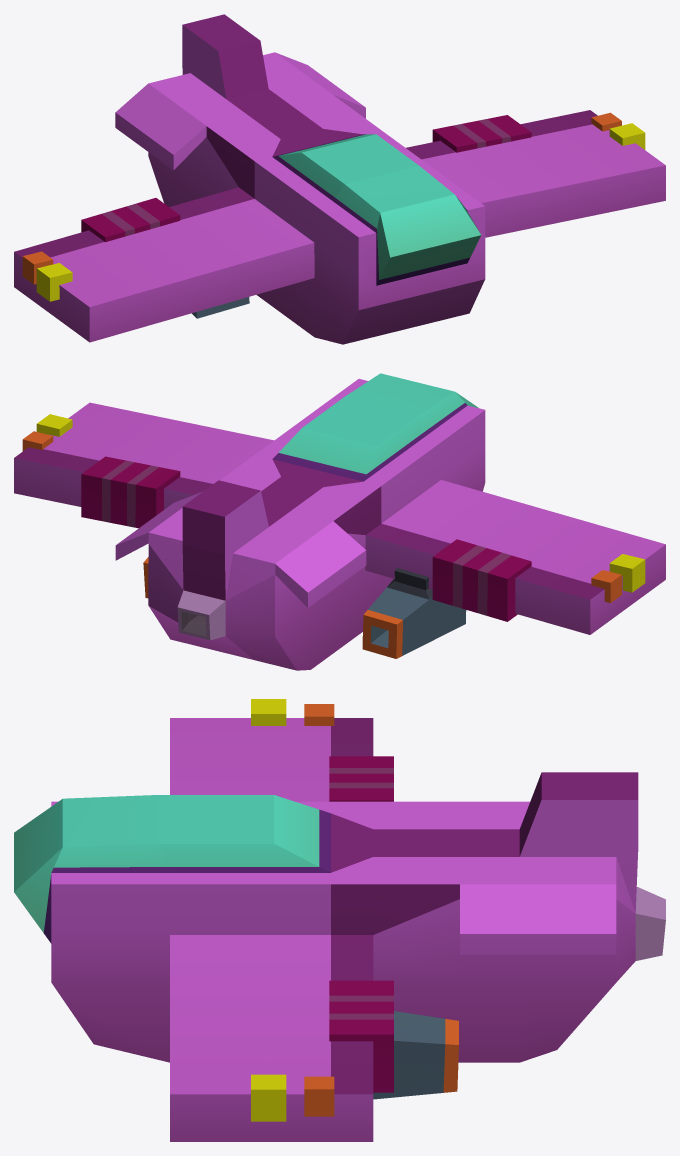
The model's file is розовый самолет.fbx.
3 renders of one model, top to bottom at view 1: azimuth 30°, elevation 25°; view 2: azimuth 150°, elevation 25°; view 3: azimuth 270°, elevation 25°, orthographic. The views are drawn at different scales.
Visible parts, largest first — view 1: Cube.020; view 2: Cube.020; view 3: Cube.020.
Boxes of the visible parts, box(x1,y1,x2,y2) form: Cube.020: box(14, 14, 665, 344); Cube.020: box(14, 373, 665, 670); Cube.020: box(14, 699, 665, 1141).
Bounding box in the file's own units: 940 × 264 × 664.
